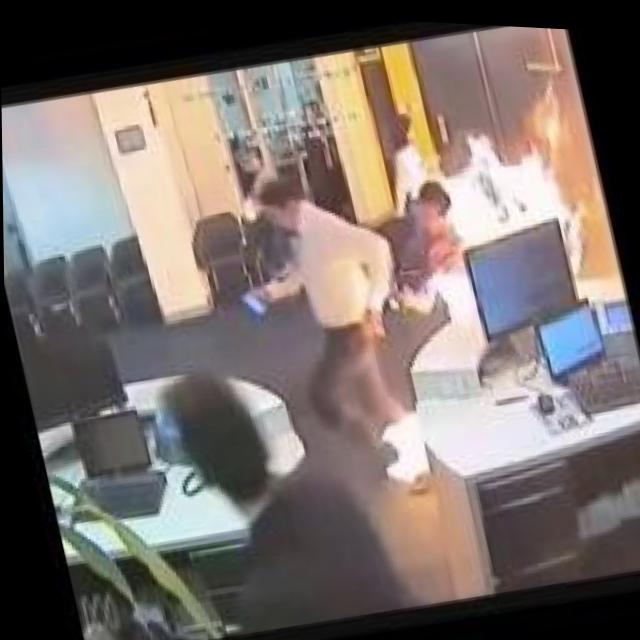fire: (421, 81, 608, 326), (363, 392, 444, 492)
